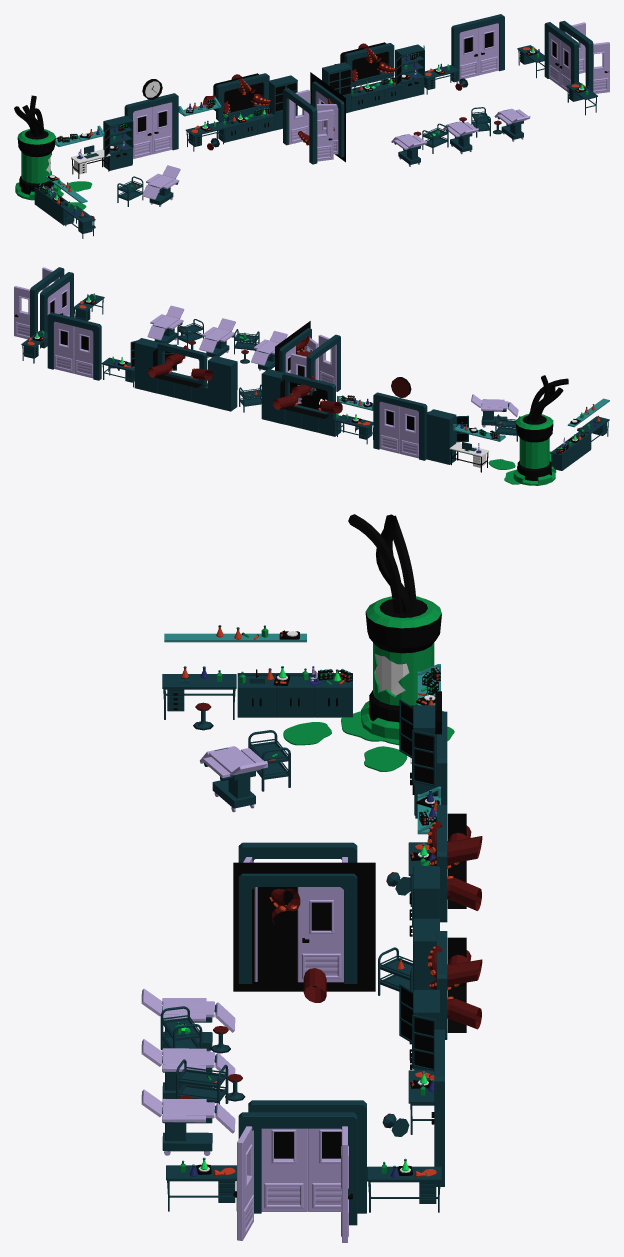
Rendered from OverWorldTestTony6.fbx.
3 renders of one model, top to bottom at view 1: azimuth 30°, elevation 25°; view 2: azimuth 150°, elevation 25°; view 3: azimuth 270°, elevation 25°, orthographic. The views are drawn at different scales.
Parts seen in each view (by area): view 1: Cube.108, Cube.093, Cube.078, Cube.115, Cube.098, Cube.114, Cube.110, Cube.107, Cube.103, Cube.073, Cube.080, Cube.102 (+18 smaller); view 2: Cube.093, Cube.108, Cube.078, Cube.114, Cube.098, Cube.107, Cube.080, Cube.115, Cube.073, Cube.106, Cube.102, Cube.110 (+18 smaller); view 3: Cube.103, Cube.093, Cube.110, Cube.114, Cube.102, Cube.073, Cube.098, Cube.107, Cube.080, Cube.105, Cube.111, Cube.122 (+11 smaller).
Part boxes in pixels (x1=…): Cube.108: x1=451, y1=14, x2=504, y2=82; Cube.093: x1=14, y1=95, x2=92, y2=209; Cube.078: x1=124, y1=93, x2=178, y2=158; Cube.115: x1=283, y1=88, x2=333, y2=164; Cube.098: x1=202, y1=73, x2=270, y2=121; Cube.114: x1=391, y1=108, x2=530, y2=166; Cube.110: x1=544, y1=22, x2=578, y2=92; Cube.107: x1=334, y1=42, x2=395, y2=87; Cube.103: x1=298, y1=72, x2=345, y2=162; Cube.073: x1=559, y1=20, x2=609, y2=93; Cube.080: x1=103, y1=115, x2=133, y2=170; Cube.102: x1=34, y1=183, x2=95, y2=238; Cube.093: x1=488, y1=375, x2=568, y2=485; Cube.108: x1=47, y1=312, x2=101, y2=380; Cube.078: x1=373, y1=392, x2=427, y2=460; Cube.114: x1=147, y1=305, x2=287, y2=370; Cube.098: x1=273, y1=372, x2=342, y2=420; Cube.107: x1=148, y1=342, x2=212, y2=387; Cube.080: x1=426, y1=409, x2=468, y2=464; Cube.115: x1=290, y1=334, x2=340, y2=404; Cube.073: x1=14, y1=267, x2=64, y2=339; Cube.106: x1=208, y1=355, x2=237, y2=411; Cube.102: x1=550, y1=415, x2=609, y2=470; Cube.110: x1=40, y1=272, x2=73, y2=348; Cube.103: x1=233, y1=862, x2=375, y2=1002; Cube.093: x1=283, y1=514, x2=454, y2=771; Cube.110: x1=248, y1=1100, x2=366, y2=1213; Cube.114: x1=141, y1=988, x2=235, y2=1155; Cube.102: x1=162, y1=666, x2=352, y2=719; Cube.073: x1=233, y1=1112, x2=357, y2=1242; Cube.098: x1=427, y1=805, x2=482, y2=922; Cube.107: x1=427, y1=931, x2=482, y2=1039; Cube.080: x1=399, y1=699, x2=436, y2=818; Cube.105: x1=399, y1=984, x2=439, y2=1071; Cube.111: x1=200, y1=746, x2=267, y2=812; Cube.122: x1=248, y1=730, x2=412, y2=995.
Size of the model in its own units: 1814 by 336 by 478.
